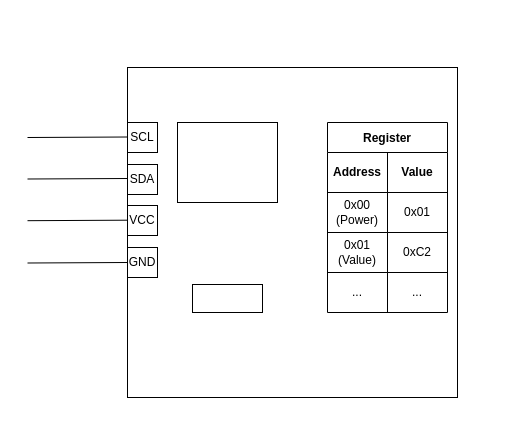
Image size: 524x444. Some labels were removed from this diagram. Here are the shapes that lost their labels. From the top down, the centre of each, then its label:
At pixel 227 162: "CPU 0x68 (Device Address)".
At pixel 227 298: "Sensor".
